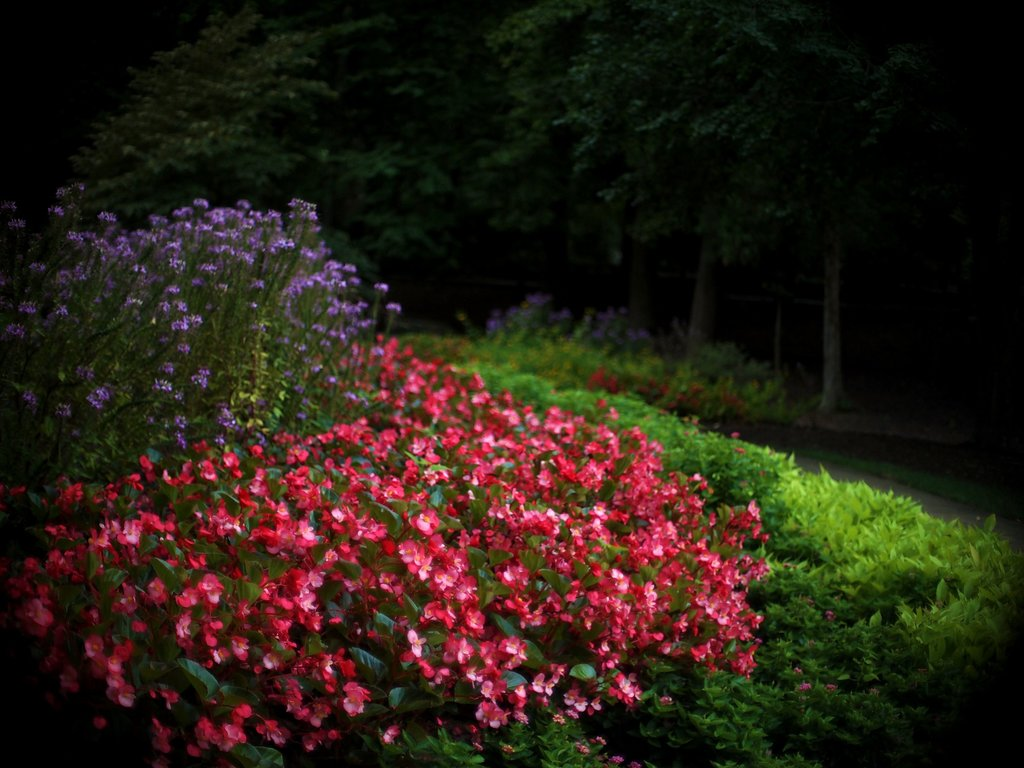Tree: (80, 0, 1023, 414)
